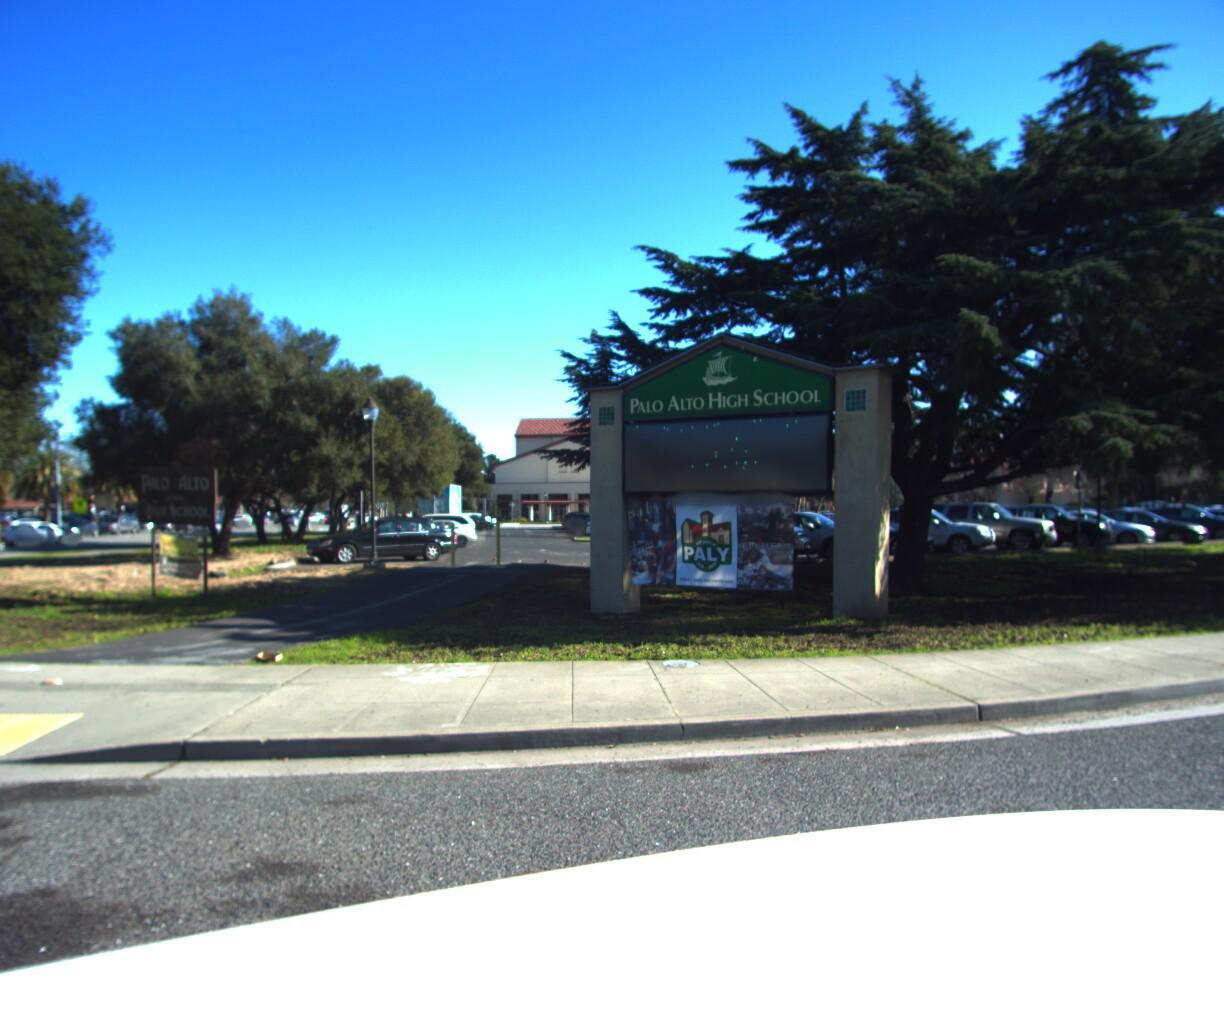car: (2, 514, 73, 540), (0, 509, 18, 549)
